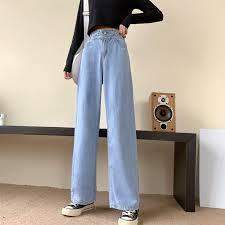pants: (73, 31, 136, 212)
